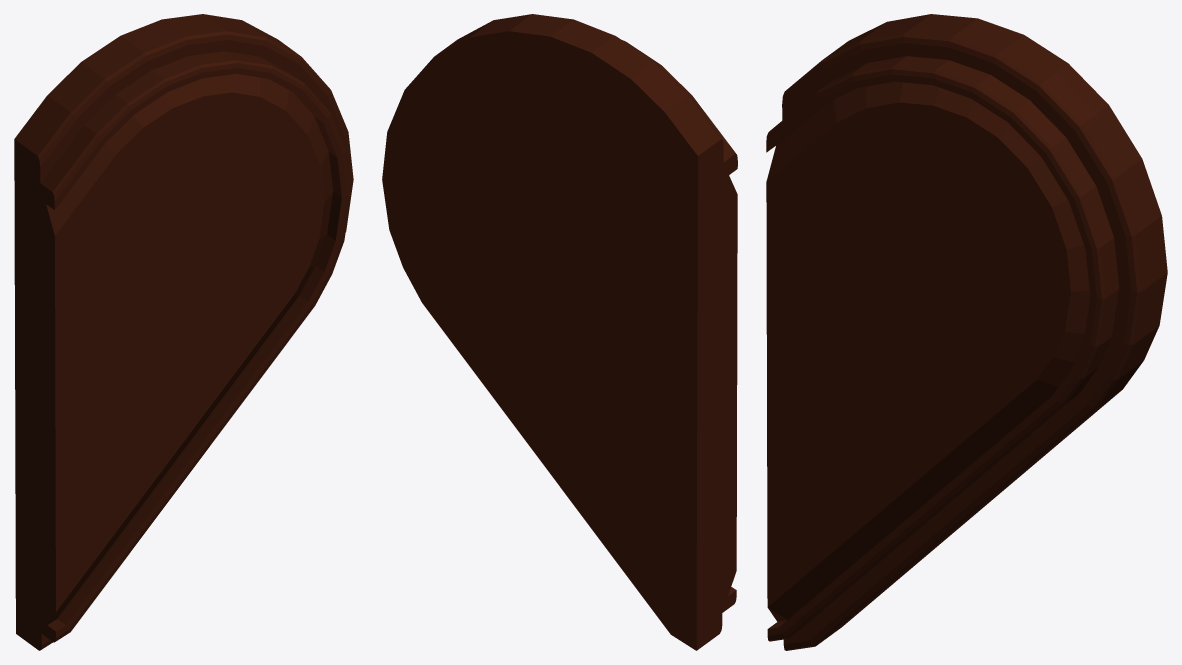
The picture shows the model from 3 angles, left to right: view 1: azimuth 30°, elevation 25°; view 2: azimuth 150°, elevation 25°; view 3: azimuth 330°, elevation 25°; orthographic projection. The views are drawn at different scales.
Parts seen in each view (by area): view 1: 2; view 2: 2; view 3: 2.
Part boxes in pixels (x1=…): 2: x1=14, y1=14, x2=353, y2=650; 2: x1=382, y1=14, x2=737, y2=650; 2: x1=766, y1=14, x2=1167, y2=650.
Size of the model in its own units: 0.9818 by 1.72 by 0.2165.
